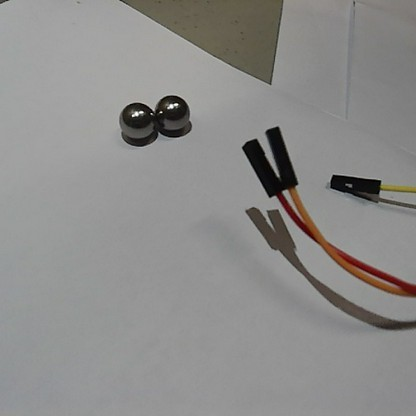ironball: (114, 102, 155, 142), (150, 93, 192, 132)
